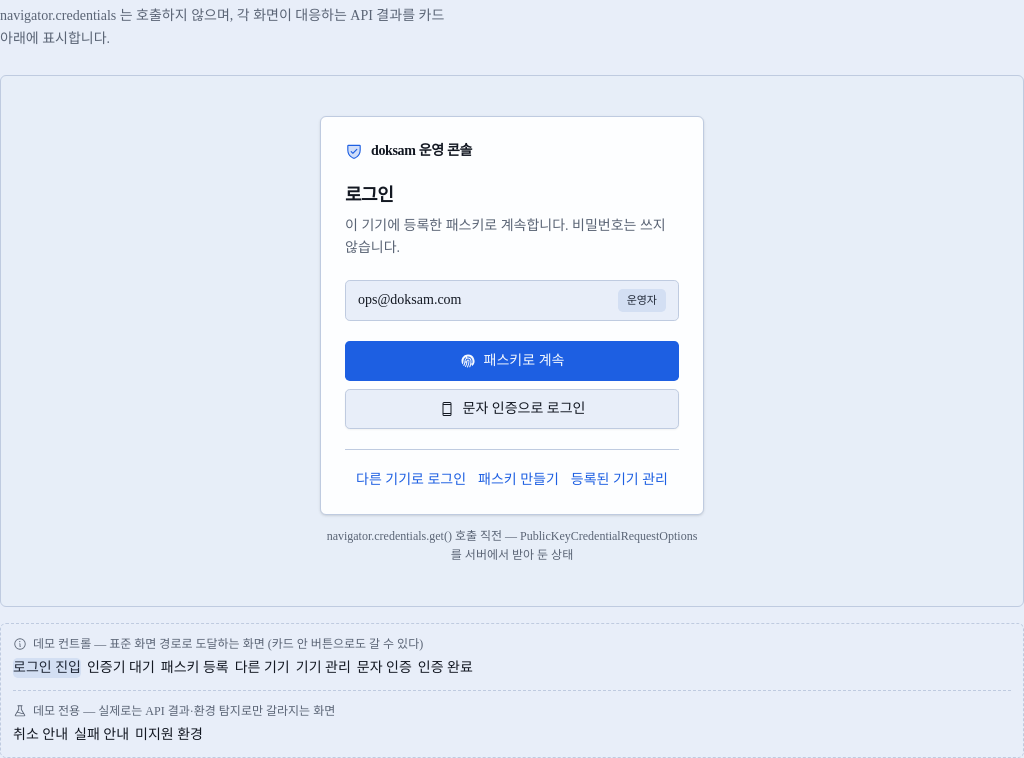
Test: PasskeyAuthPage › removes a registered passkey after confirming the dialog
The image size is (1024, 758).
(page scrolled)
Click the button "기기 관리". click: (323, 668)
box: x1=296 y1=658 x2=351 y2=678
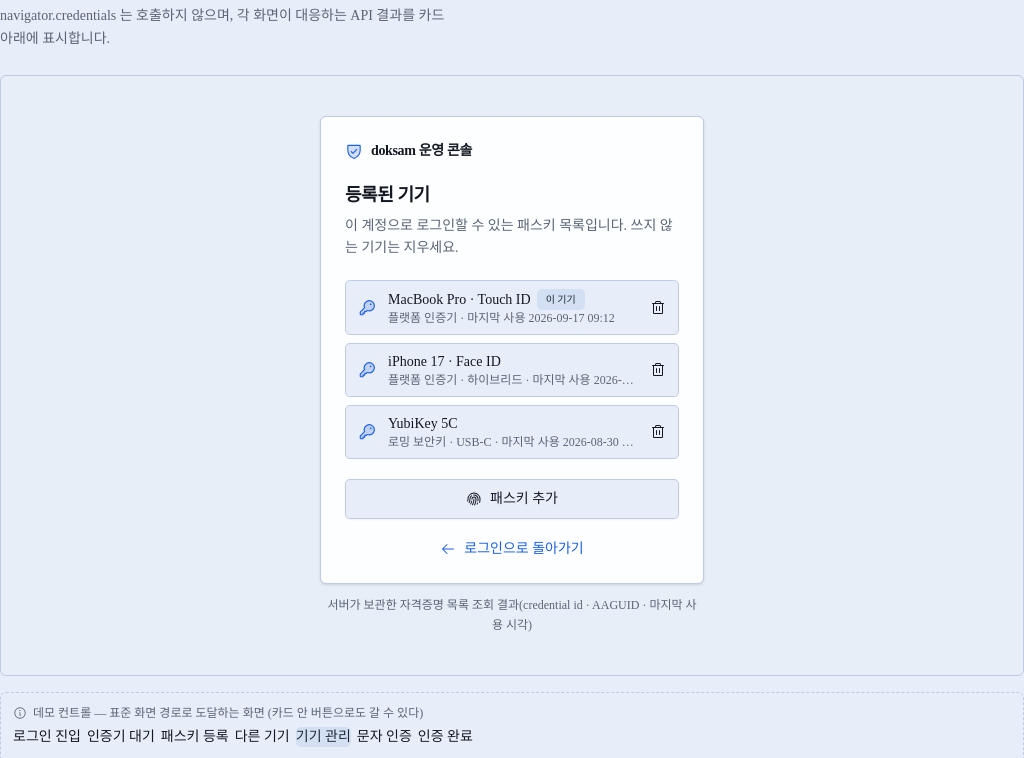
Expected: the text "YubiKey 5C" is shown, x1=388 y1=414 x2=458 y2=434
Click the button named "YubiKey 5C 삭제". click: (658, 432)
box: x1=650 y1=424 x2=666 y2=440
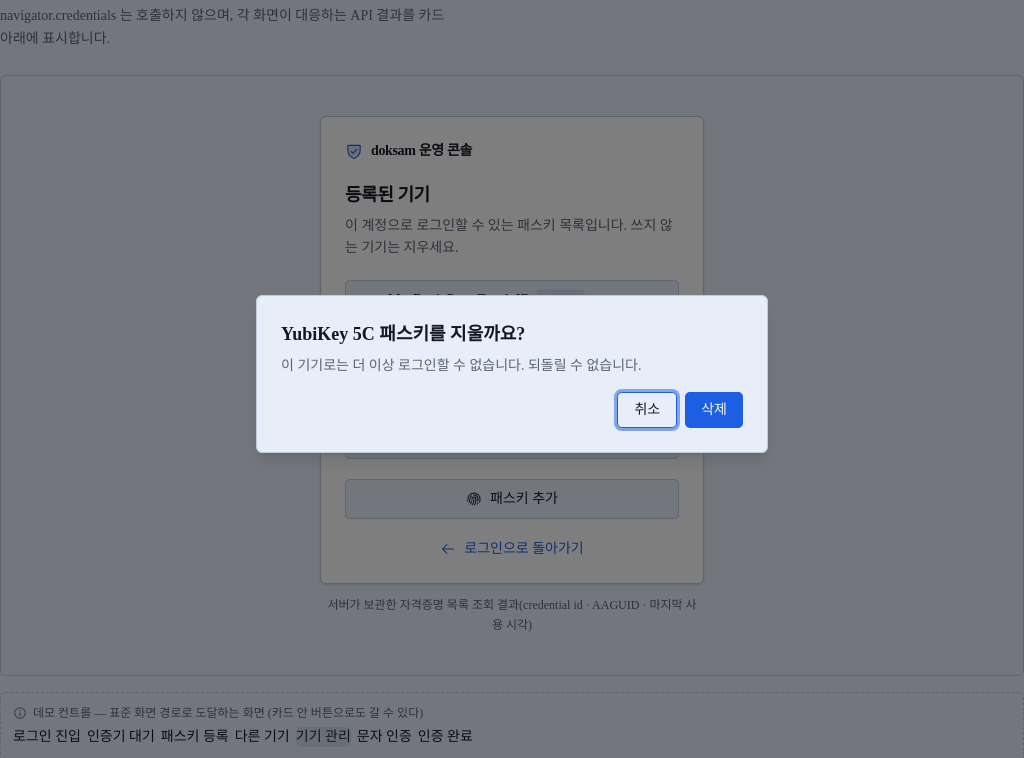
Click the button "삭제". click: (714, 410)
box: x1=685 y1=392 x2=743 y2=428
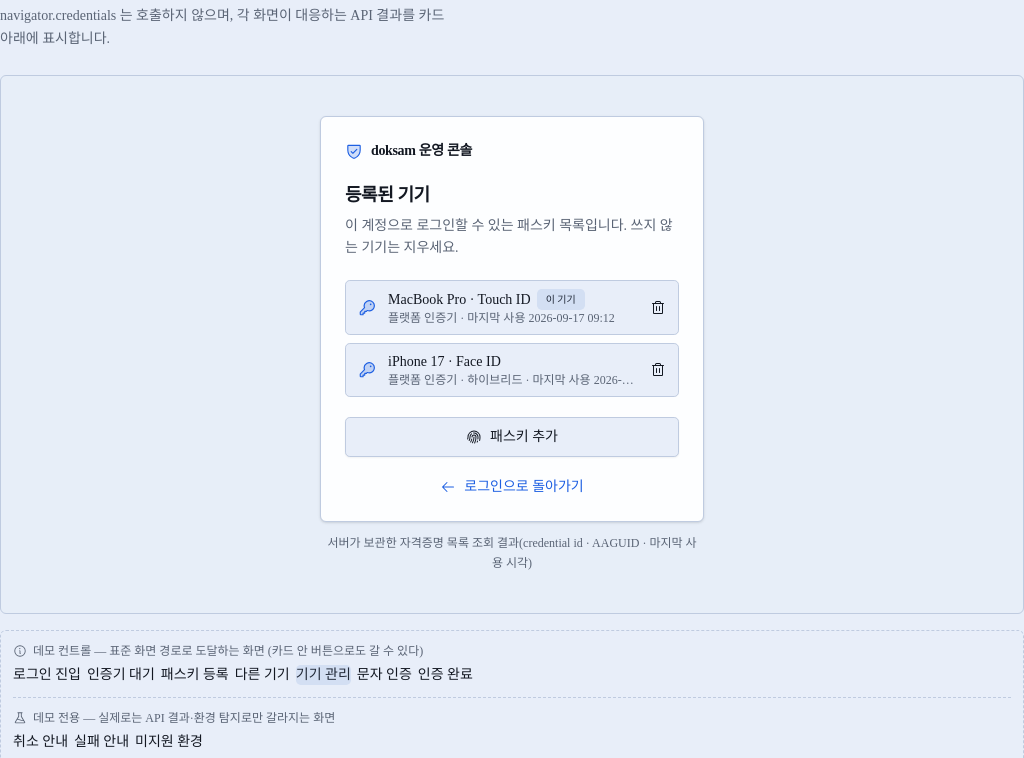
Expected: the text "YubiKey 5C" is gone
